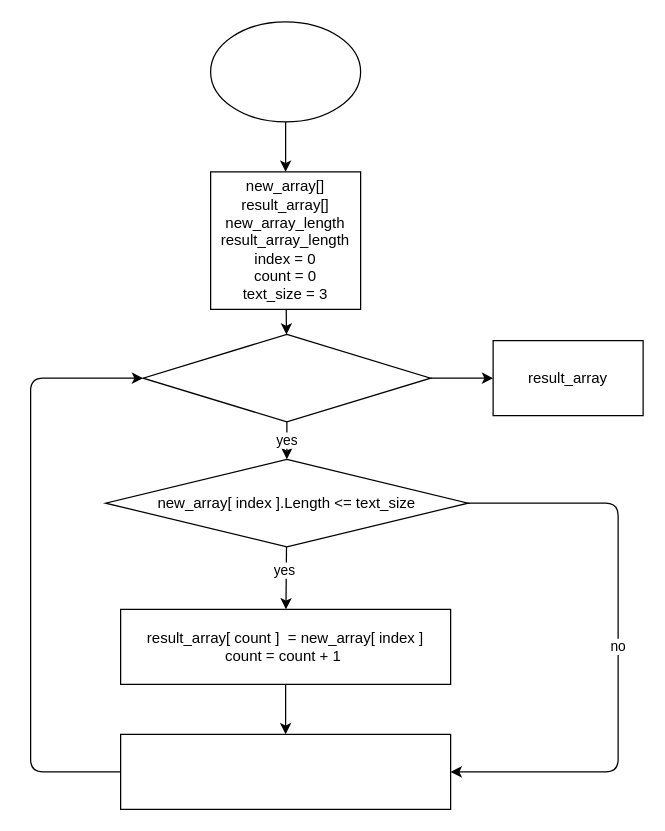
This 665x831 diagram has some shape labels left out. Here are the shapes that lost their labels. From the top down, the centre of each, then its label:
At point 286,377: "index < new_array_length".
At point 285,771: "index = index + 1".
